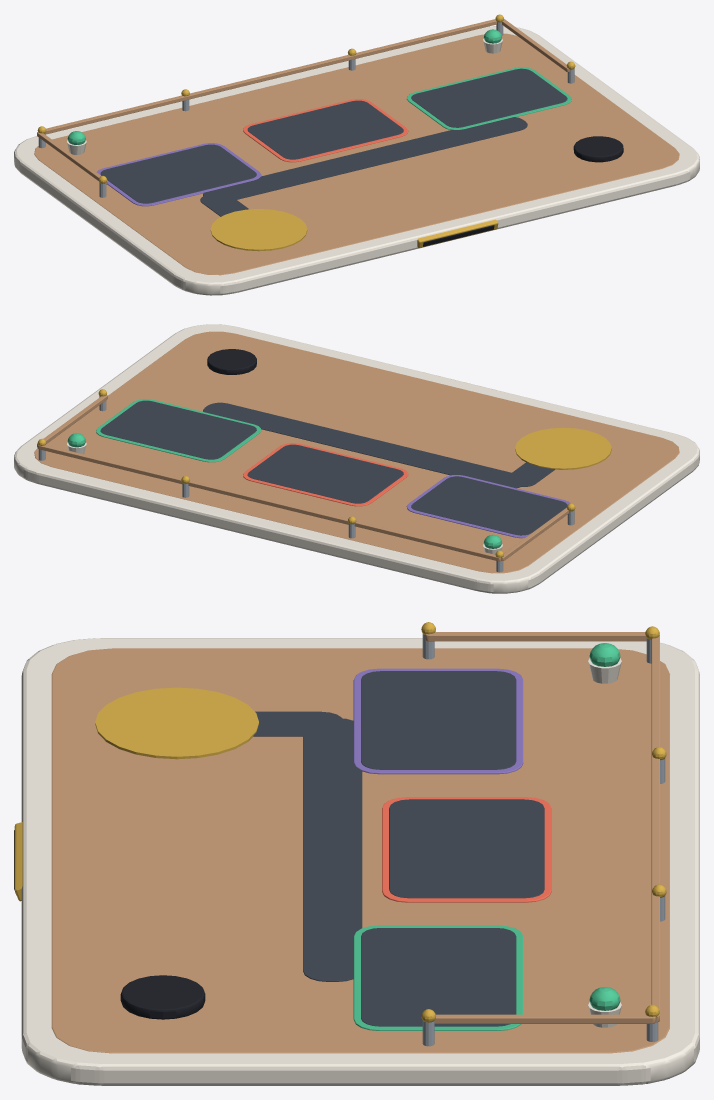
The model's file is FloorOfficePlatform.fbx.
3 views of the same model, one above another, from view 1: azimuth 30°, elevation 25°; view 2: azimuth 150°, elevation 25°; view 3: azimuth 270°, elevation 25° (orthographic). The views are drawn at different scales.
Parts seen in each view (by area): view 1: FloorOfficePlatform_StaticBody; view 2: FloorOfficePlatform_StaticBody; view 3: FloorOfficePlatform_StaticBody.
Part boxes in pixels (x1,y1,x2,y2): FloorOfficePlatform_StaticBody: (14,14,699,295); FloorOfficePlatform_StaticBody: (14,324,699,593); FloorOfficePlatform_StaticBody: (14,622,699,1085).
Bounding box in the file's own units: 72 × 4.92 × 48.55.
